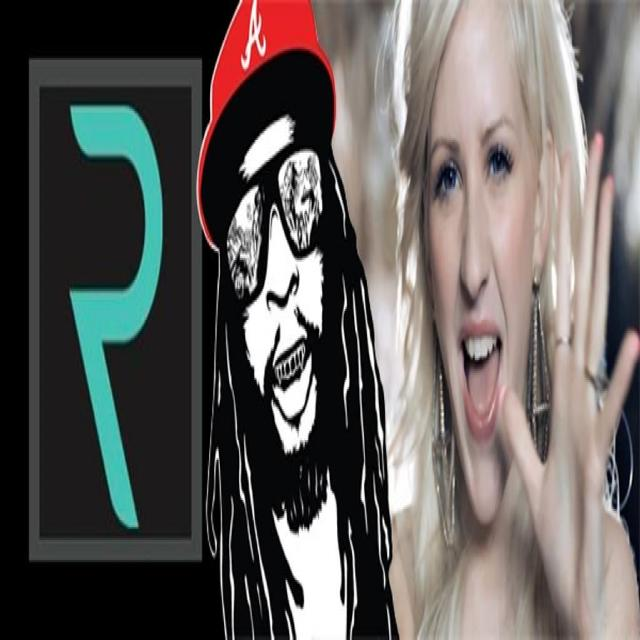nomask: (432, 29, 522, 531)
